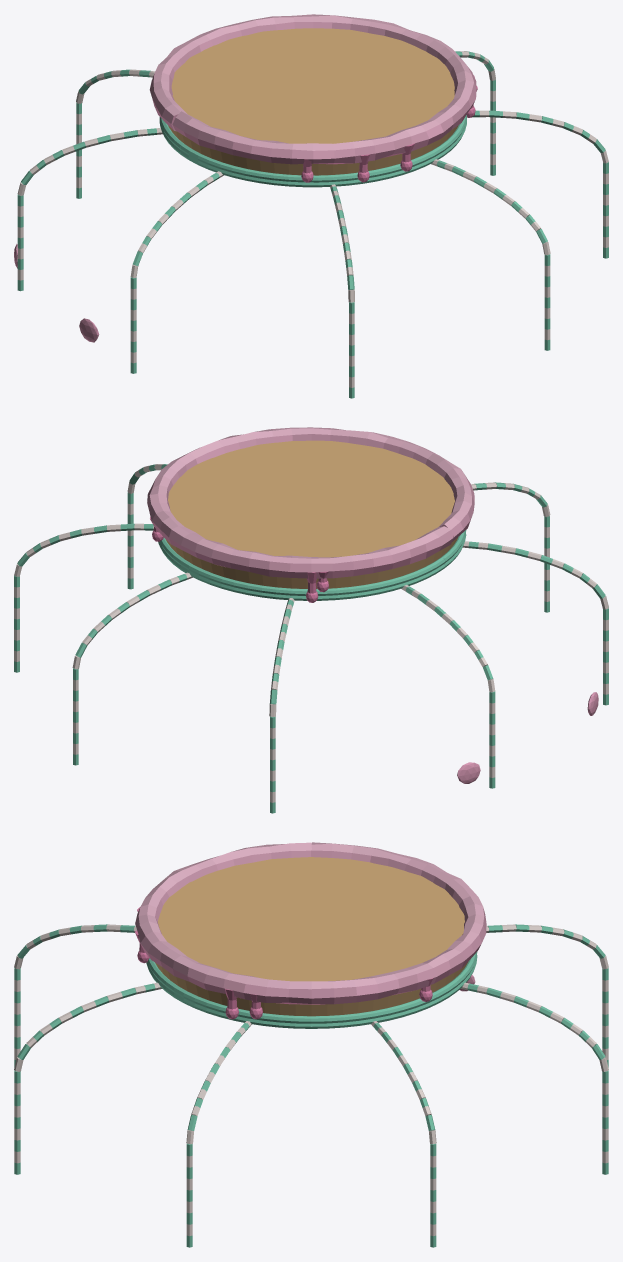
The model's file is goo_jar_trim_1_top@candy.fbx.
3 views of the same model, one above another, from view 1: azimuth 30°, elevation 25°; view 2: azimuth 150°, elevation 25°; view 3: azimuth 270°, elevation 25° (orthographic). The views are drawn at different scales.
Visible parts, largest first — view 1: goo_jar_trim_1_top; view 2: goo_jar_trim_1_top; view 3: goo_jar_trim_1_top.
Boxes of the visible parts, bbox=[...] form: goo_jar_trim_1_top: bbox=[14, 14, 608, 398]; goo_jar_trim_1_top: bbox=[14, 427, 608, 813]; goo_jar_trim_1_top: bbox=[14, 842, 608, 1247].
Bounding box in the file's own units: 60.32 × 22.69 × 58.29.
